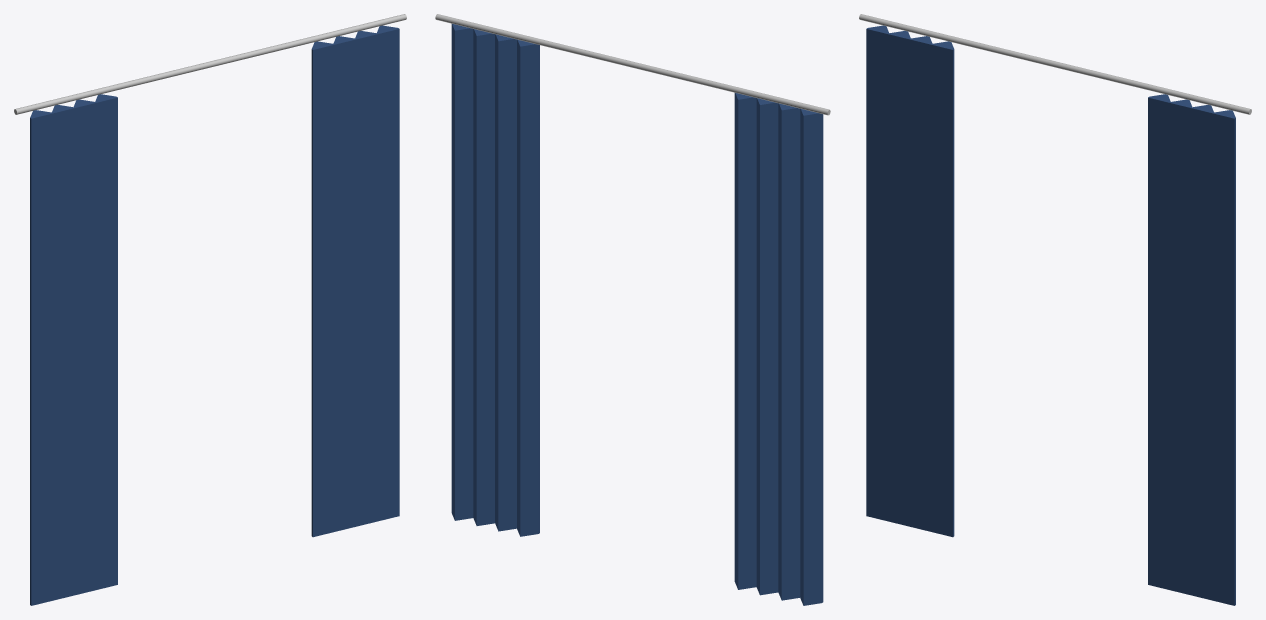
The model's file is furniture.home.curtains.glb.
3 views of the same model, side by side, from view 1: azimuth 30°, elevation 25°; view 2: azimuth 150°, elevation 25°; view 3: azimuth 330°, elevation 25° (orthographic).
Parts seen in each view (by area): view 1: main__fabric_blue, main__steel_stainless; view 2: main__fabric_blue, main__steel_stainless; view 3: main__fabric_blue, main__steel_stainless.
Boxes of the visible parts, <box> form: main__fabric_blue: <box>30,25,399,605</box>; main__steel_stainless: <box>14,14,406,114</box>; main__fabric_blue: <box>451,24,823,605</box>; main__steel_stainless: <box>435,14,830,115</box>; main__fabric_blue: <box>866,25,1235,605</box>; main__steel_stainless: <box>859,14,1251,114</box>.
Bounding box in the file's own units: 1.8 × 2.19 × 0.07.
